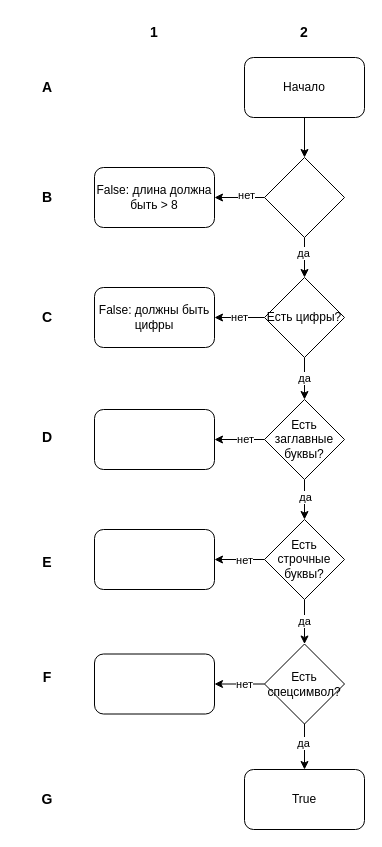
Some shapes in this 382 by 847 pixel diagram are drawn without their labels. The centre of each missing label's shape, as x and y in pixels:
"False: должны быть заглавные буквы" belongs at pixel 154 439.
"False: должны быть спецсимволы" belongs at pixel 154 683.
"False: должны быть строчные буквы" belongs at pixel 154 559.
"Длина > 8?" belongs at pixel 304 197.
